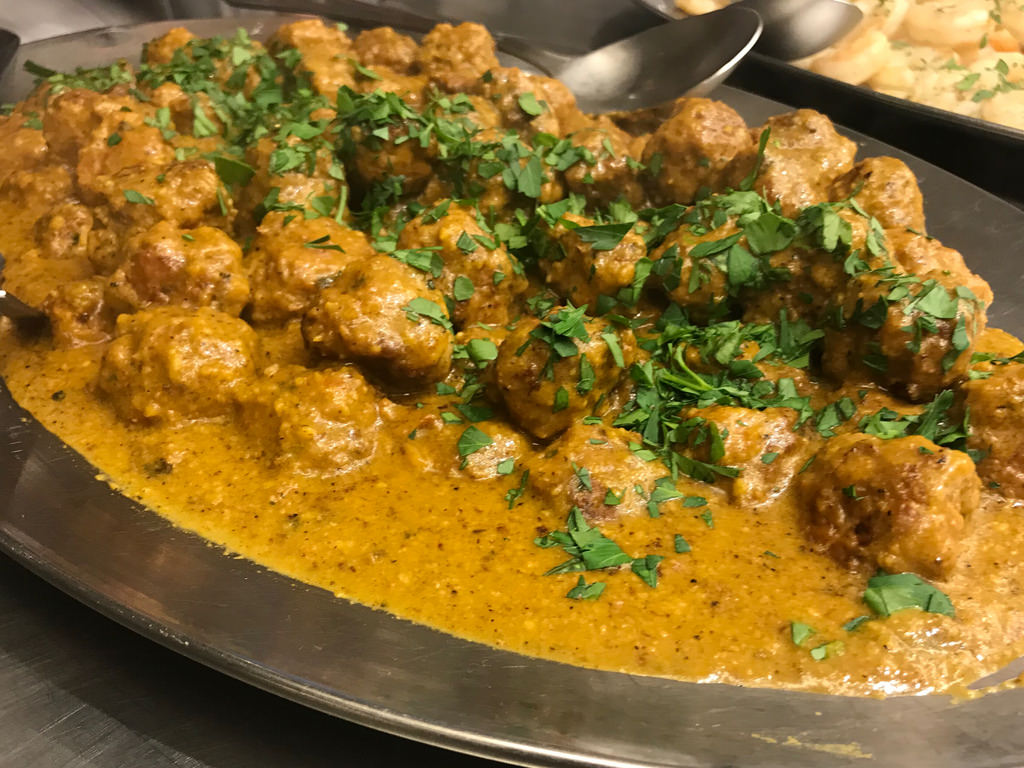meatballs: (683, 112, 983, 573), (81, 94, 381, 409)
